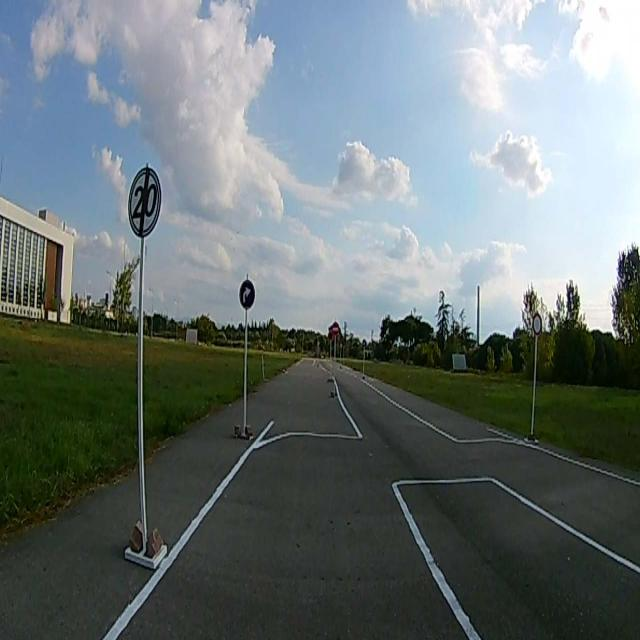sag: (238, 280, 255, 308)
